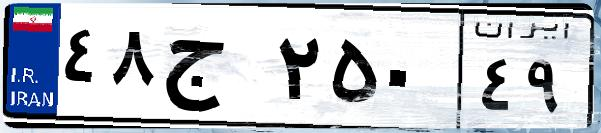0: (385, 28, 445, 110)
2: (270, 28, 330, 110)
4: (57, 26, 110, 100), (475, 38, 525, 113)
5: (330, 28, 385, 110)
8: (110, 28, 158, 98)
9: (525, 38, 570, 115)
ج: (158, 20, 270, 120)
